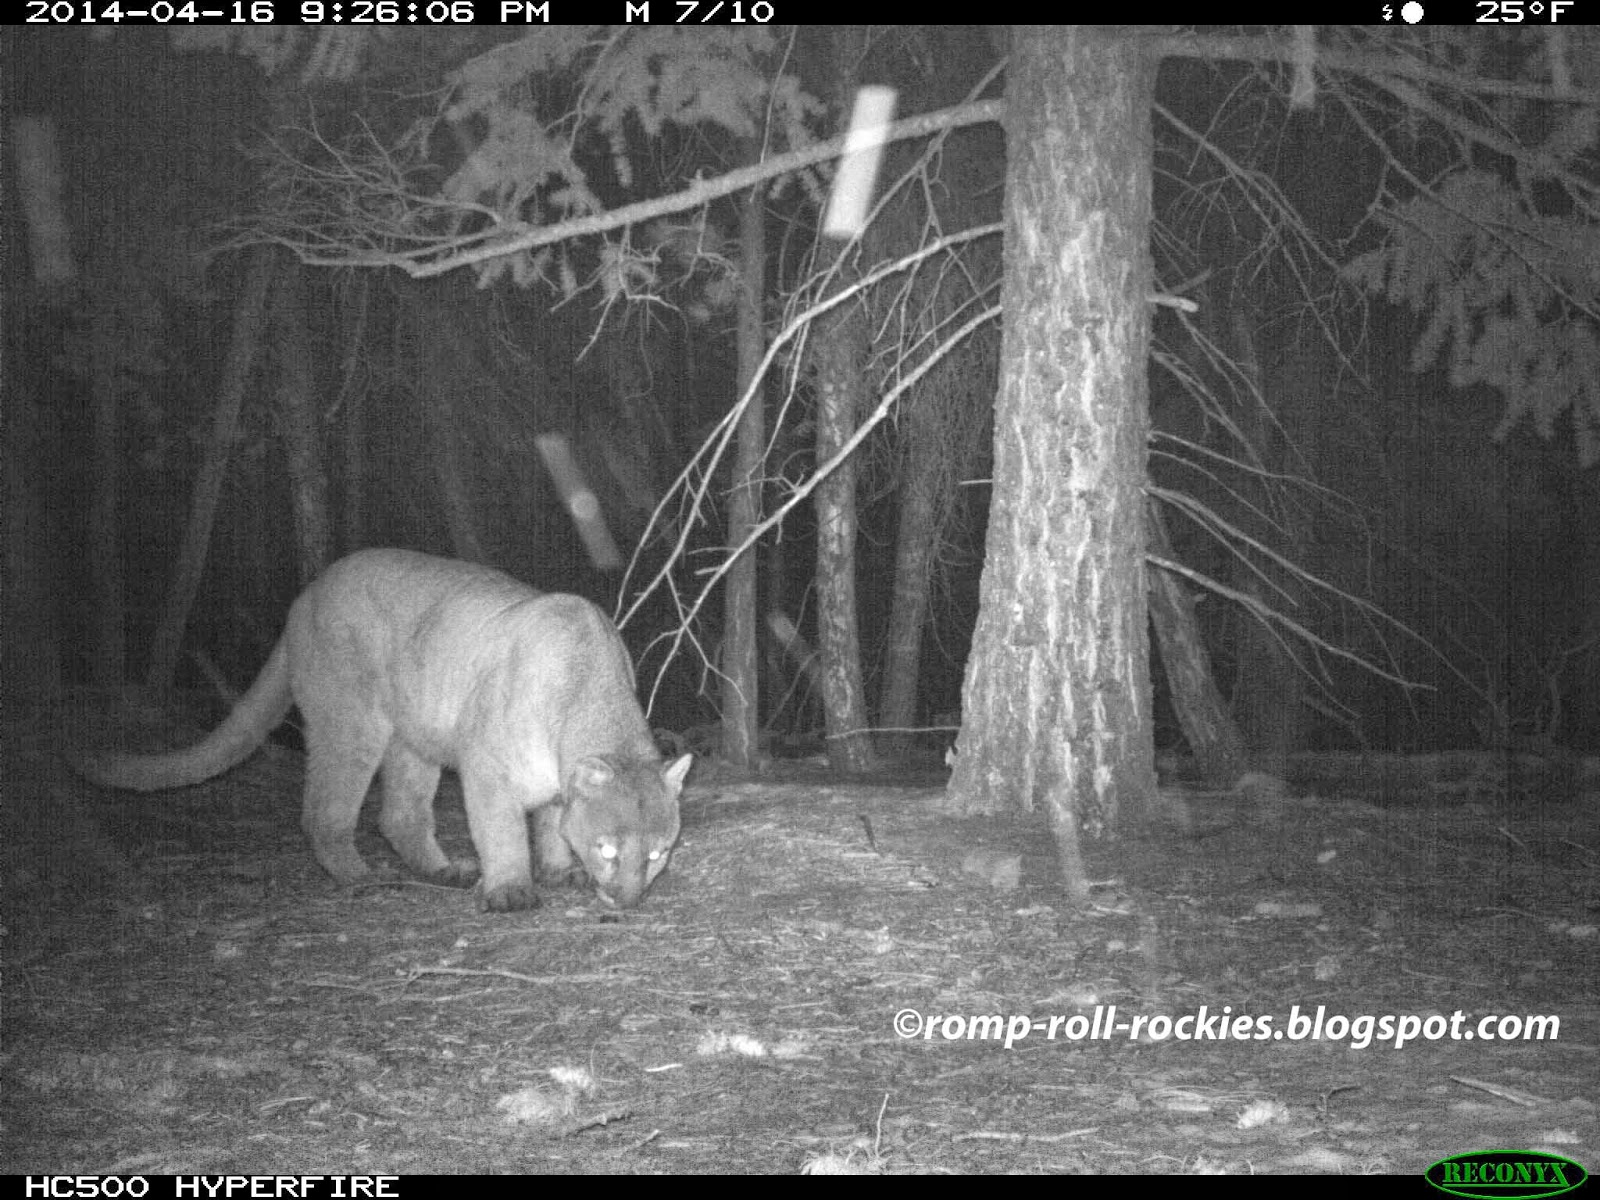mountain lion: (33, 480, 721, 921)
